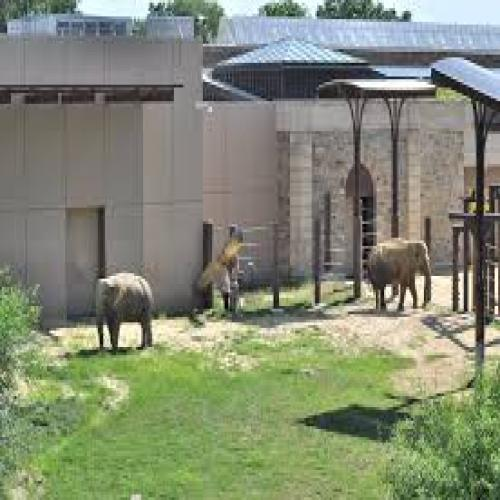asian_elephant-endangered: (92, 272, 158, 354), (368, 239, 432, 310)
